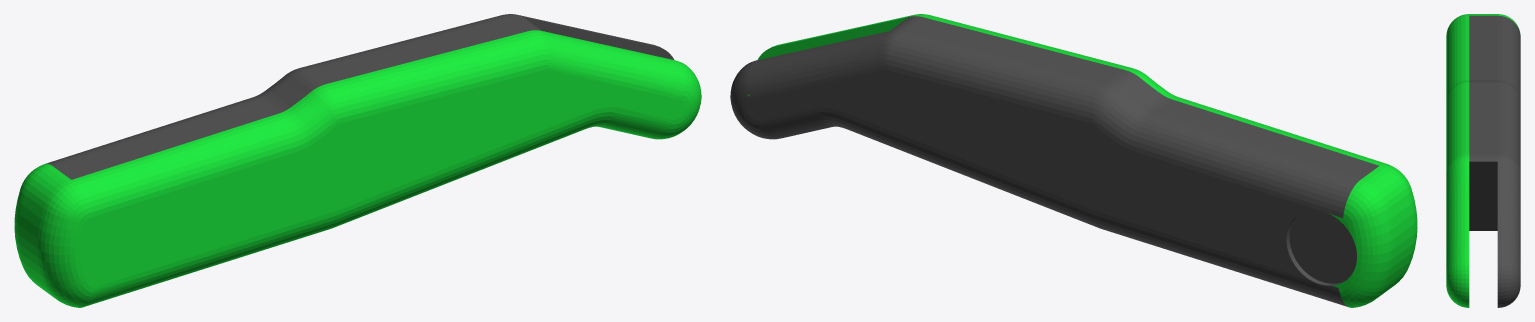
Rendered from left_thigh.dae.
3 renders of one model, left to right at view 1: azimuth 30°, elevation 25°; view 2: azimuth 150°, elevation 25°; view 3: azimuth 270°, elevation 25°, orthographic. The views are drawn at different scales.
Visible parts, largest first — view 1: Left Thigh; view 2: Left Thigh; view 3: Left Thigh.
Part boxes in pixels (box(x1,y1,x2,y2)): Left Thigh: box(14, 14, 701, 307); Left Thigh: box(730, 14, 1417, 307); Left Thigh: box(1446, 14, 1520, 307).
Bounding box in the file's own units: 0.4961 × 0.065 × 0.1178.
